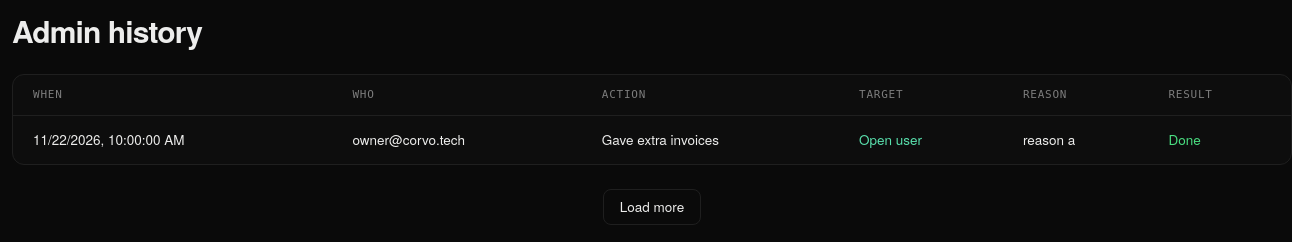
Test: AuditPage › loads more by cursor and appends
Click the button "Load more" at {"x": 652, "y": 207}, box 603,189 -> 701,225
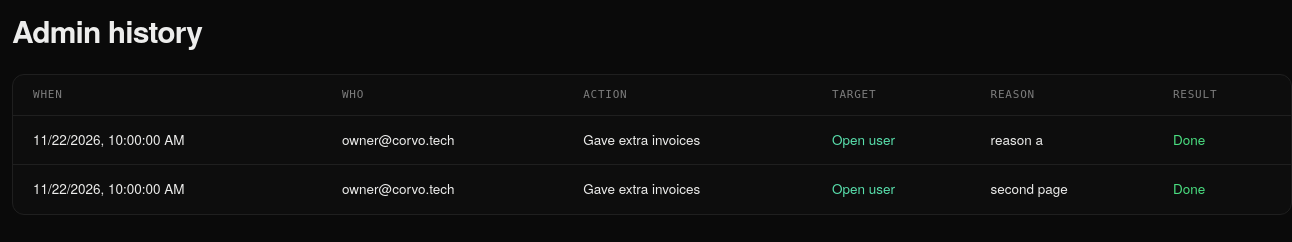
Check: the text "reason a" is shown, box 975,116 -> 1157,165
Check: the button "Load more" is gone
